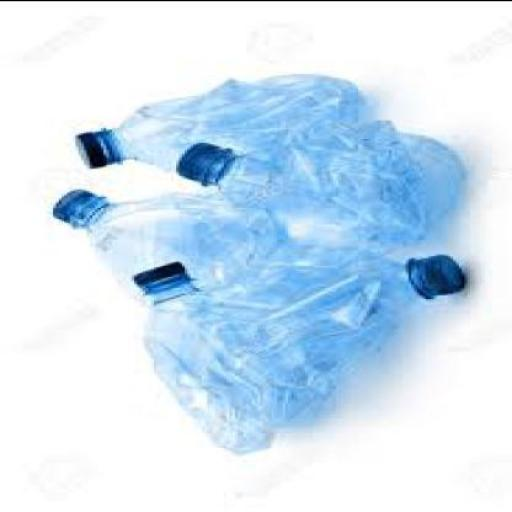plastic: (128, 258, 336, 453), (176, 115, 459, 248), (72, 71, 378, 175), (221, 236, 467, 362), (50, 186, 296, 290), (406, 251, 462, 298), (173, 140, 229, 182), (50, 186, 106, 225), (129, 259, 190, 294), (73, 126, 120, 166)
